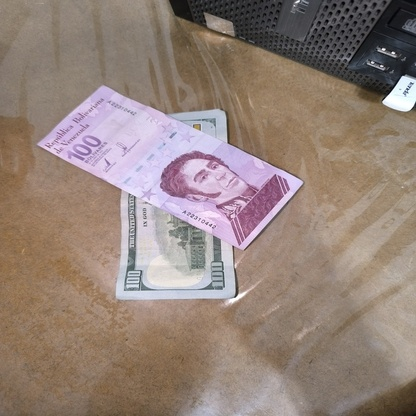one_hundred-back: (113, 106, 239, 304)
